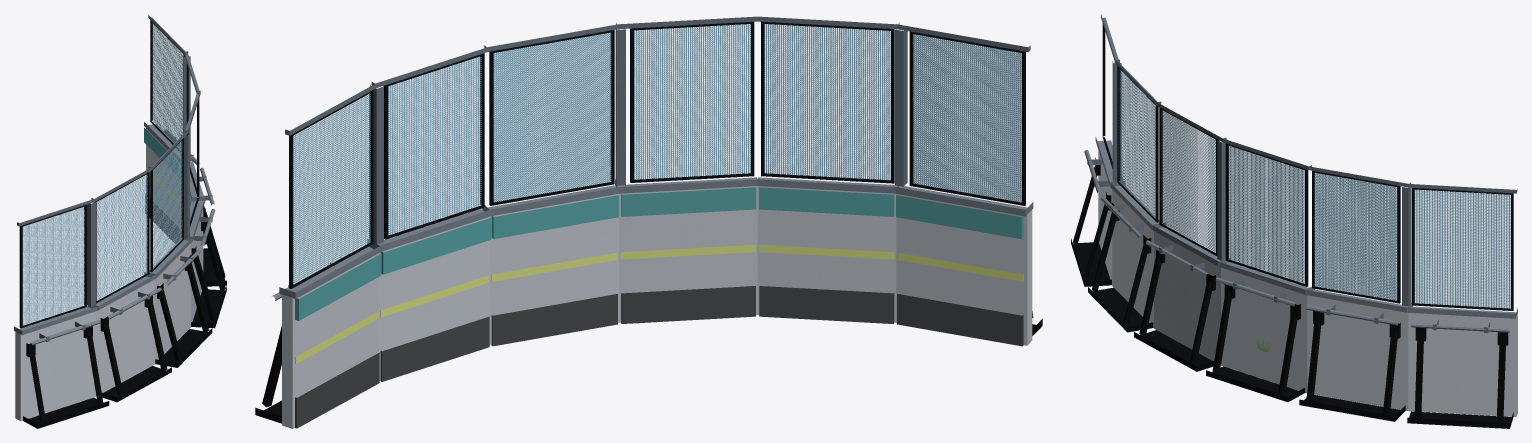
File: tt_rink_board_corner.glb
The picture shows the model from 3 angles, left to right: view 1: azimuth 30°, elevation 25°; view 2: azimuth 150°, elevation 25°; view 3: azimuth 270°, elevation 25°; orthographic projection. The views are drawn at different scales.
Parts seen in each view (by area): view 1: Pane_Scissor, Board_Shell, Sill_Frame, Pane_Frit, Glazing_Frame, Cap_Rail, Spectator_Rail, Kick_Plate, Rail_Bracket_Hardware, Cap_Pad; view 2: Pane_Scissor, Board_Shell, Kick_Plate, Cap_Pad, Pane_Frit, Glazing_Frame, Cap_Rail, Court_Stripe, Sill_Frame; view 3: Pane_Scissor, Board_Shell, Sill_Frame, Pane_Frit, Glazing_Frame, Cap_Rail, Spectator_Rail, Rail_Bracket_Hardware.
Boxes of the visible parts, x1,y1,x2,y2 form: Pane_Scissor: (22,23,183,325); Board_Shell: (15,128,203,421); Sill_Frame: (23,206,226,428); Pane_Frit: (19,20,199,328); Glazing_Frame: (17,15,200,306); Cap_Rail: (14,122,205,335); Spectator_Rail: (30,129,215,345); Kick_Plate: (145,193,180,243); Rail_Bracket_Hardware: (39,137,212,341); Cap_Pad: (144,128,191,205); Pane_Scissor: (293,24,1021,284); Board_Shell: (282,186,1032,428); Kick_Plate: (295,286,1023,428); Cap_Pad: (295,187,1023,320); Pane_Frit: (289,21,1025,288); Glazing_Frame: (285,16,1030,244); Cap_Rail: (279,177,1033,298); Court_Stripe: (295,244,1023,364); Sill_Frame: (255,311,1042,423); Pane_Scissor: (1118,68,1510,308); Board_Shell: (1098,142,1517,417); Sill_Frame: (1071,157,1513,428); Pane_Frit: (1102,23,1513,310); Glazing_Frame: (1101,14,1517,306); Cap_Rail: (1095,137,1517,318); Spectator_Rail: (1084,150,1509,332); Rail_Bracket_Hardware: (1087,158,1489,333).
Size of what is drawn, in the model's own units: 4.33 by 2.42 by 4.33.
Materials: 10 (6 with a texture image).
